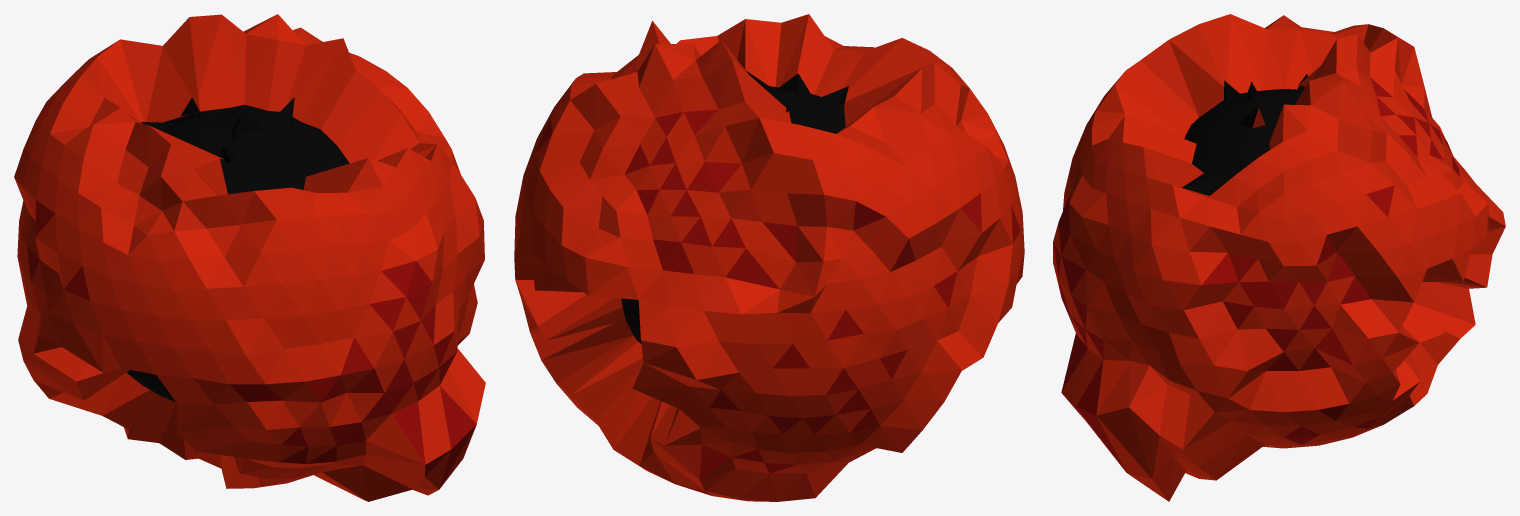
The model's file is Mars.fbx.
The picture shows the model from 3 angles, left to right: view 1: azimuth 30°, elevation 25°; view 2: azimuth 150°, elevation 25°; view 3: azimuth 270°, elevation 25°; orthographic projection. The views are drawn at different scales.
Parts seen in each view (by area): view 1: Icosphere; view 2: Icosphere; view 3: Icosphere.
Boxes of the visible parts, x1,y1,x2,y2 form: Icosphere: (14,14,485,501); Icosphere: (514,14,1024,501); Icosphere: (1053,14,1505,501).
Size of the model in its own units: 978 by 1020 by 1019.
